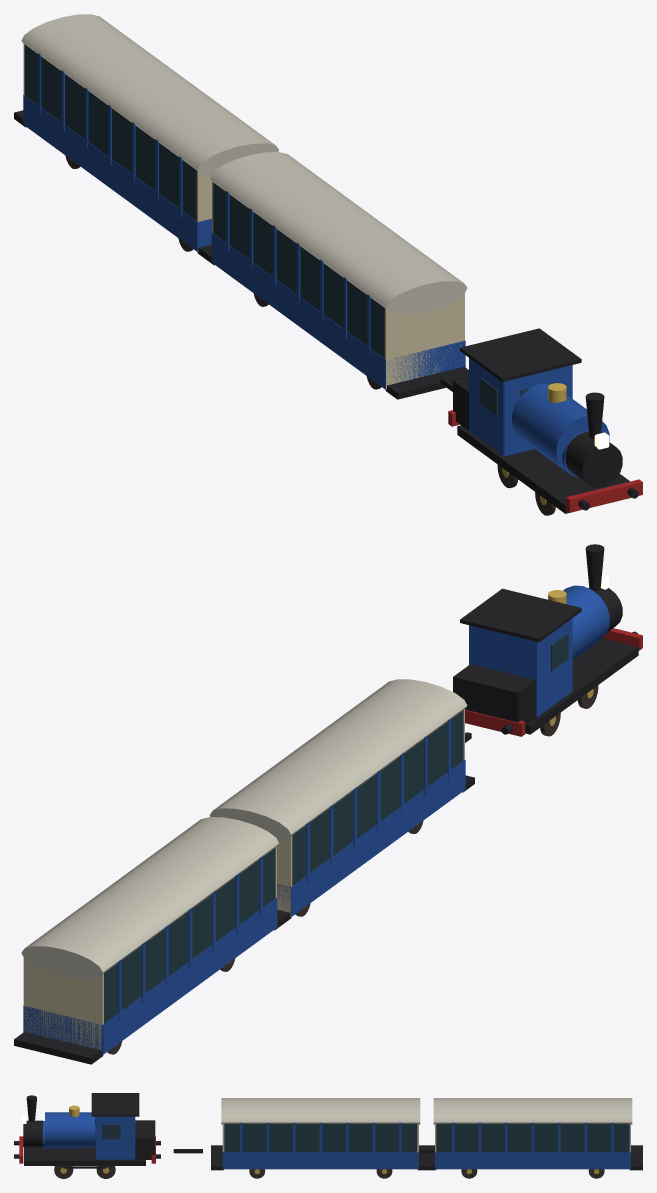
Rendered from dhr_train.glb.
The picture shows the model from 3 angles, top to bottom: view 1: azimuth 30°, elevation 25°; view 2: azimuth 150°, elevation 25°; view 3: azimuth 270°, elevation 25°; orthographic projection. The views are drawn at different scales.
Visible parts, largest first — view 1: train; view 2: train; view 3: train.
Part boxes in pixels (x1,y1,x2,y2): train: (14,14,642,515); train: (14,544,642,1064); train: (14,1093,642,1178).
Size of the model in its own units: 2 by 3.12 by 23.72.
